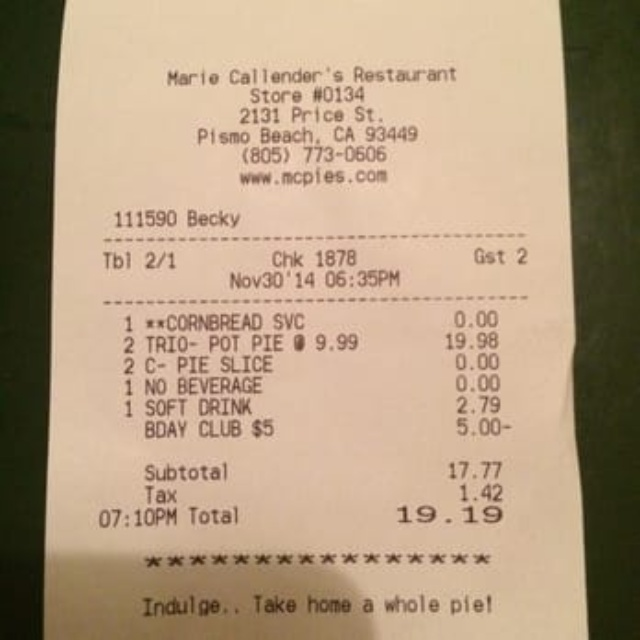invoice_table: (123, 307, 505, 437)
invoice_title: (167, 67, 459, 186)
invoice_total: (188, 506, 503, 528)
